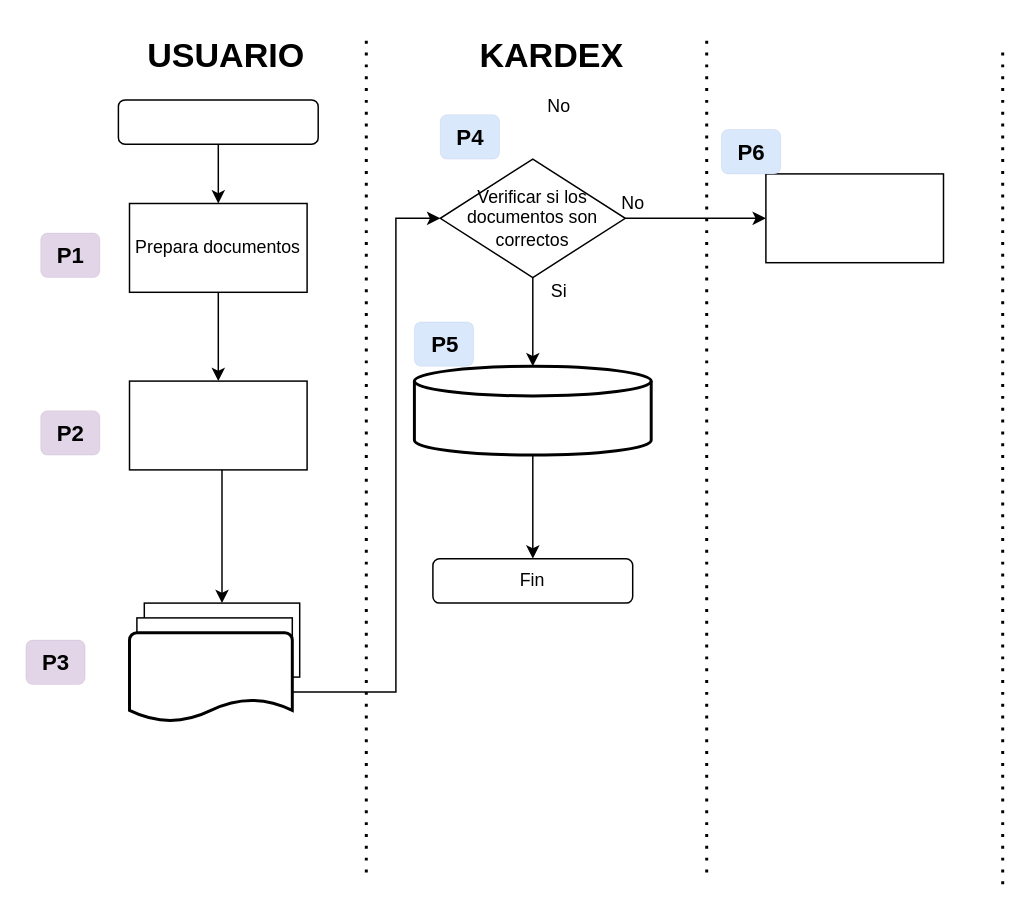
Image size: 1030x912. Some labels were removed from this diagram. The shapes that lost their labels are listed below. From the top down, each one's centre as x and y in pixels, then its label:
At (x=217, y=121): "Inicio".
At (x=854, y=217): "Rechazo de los documentos presentados".
At (x=217, y=425): "Llenar el formulario".
At (x=532, y=410): "Guardar los datos en la BD".
At (x=210, y=676): "Enviar los documentos".
